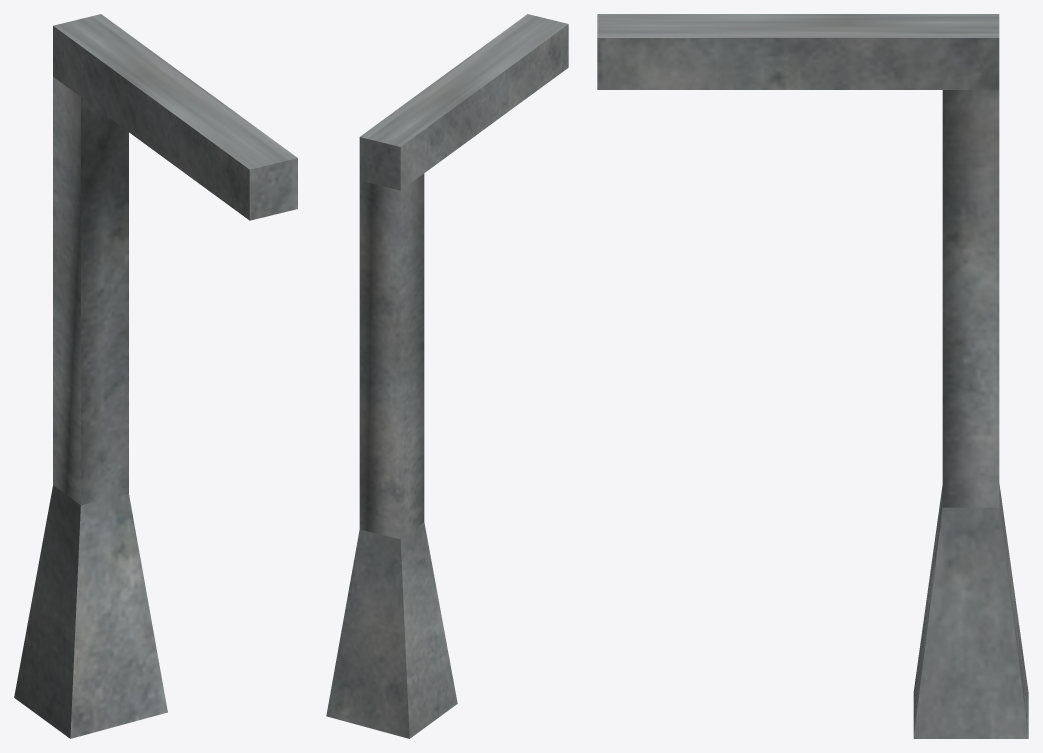
Rendered from FloorLamp.fbx.
The picture shows the model from 3 angles, left to right: view 1: azimuth 30°, elevation 25°; view 2: azimuth 150°, elevation 25°; view 3: azimuth 270°, elevation 25°; orthographic projection. The views are drawn at different scales.
Parts seen in each view (by area): view 1: FloorLamp; view 2: FloorLamp; view 3: FloorLamp.
Boxes of the visible parts, bbox=[...] form: FloorLamp: bbox=[14, 14, 297, 738]; FloorLamp: bbox=[326, 14, 568, 738]; FloorLamp: bbox=[597, 14, 1028, 738].
Bounding box in the file's own units: 9.6 × 63.62 × 35.97.
